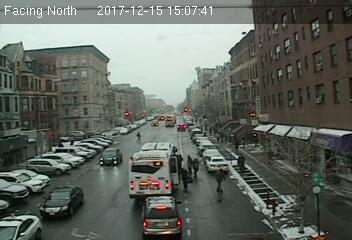bus: (128, 141, 180, 199)
car: (39, 185, 83, 220), (1, 214, 43, 240), (202, 155, 229, 172), (99, 147, 121, 166), (176, 124, 186, 131)
pedestrian: (214, 171, 224, 202), (181, 169, 192, 192), (237, 153, 247, 177), (192, 158, 199, 177)
